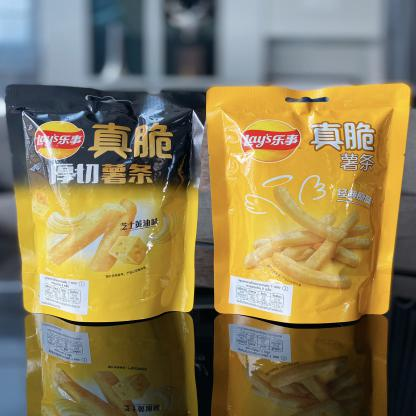potatochip: (205, 85, 411, 323), (8, 84, 205, 323)
